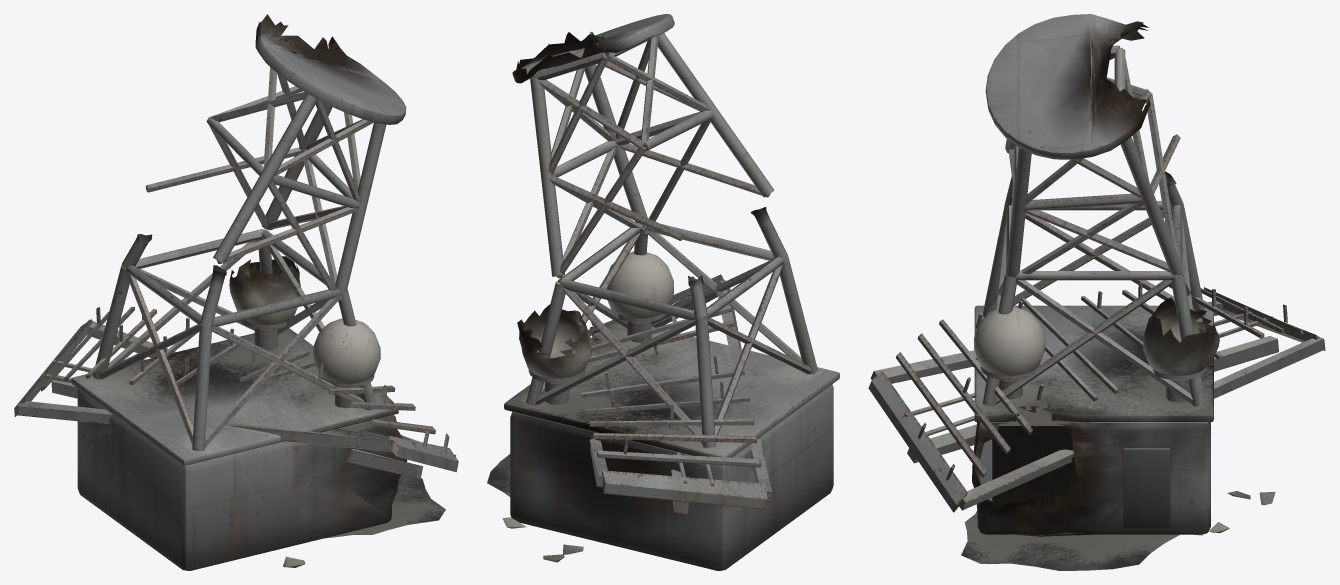
File: fh_battle_e_lev_radar_broken.glb
3 renders of one model, left to right at view 1: azimuth 30°, elevation 25°; view 2: azimuth 150°, elevation 25°; view 3: azimuth 270°, elevation 25°, orthographic. The views are drawn at different scales.
Visible parts, largest first — view 1: radar; view 2: radar; view 3: radar.
Boxes of the visible parts, <box> form: radar: <box>14,14,458,570</box>; radar: <box>487,14,839,570</box>; radar: <box>868,14,1325,570</box>.
Size of the model in its own units: 0.6865 by 0.9282 by 0.7838.
Materials: 1 (1 with a texture image).
